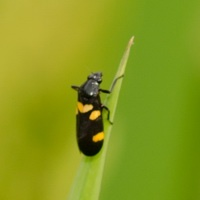insect: (72, 72, 120, 155)
